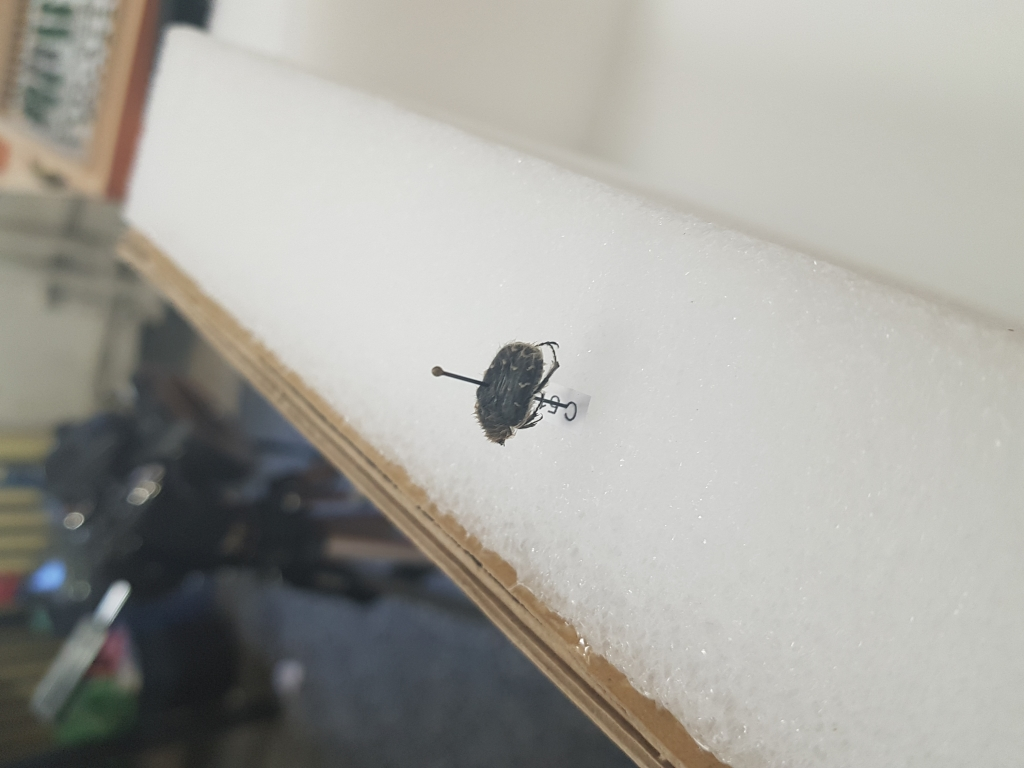Tropinota_senicula: (471, 329, 574, 449)
